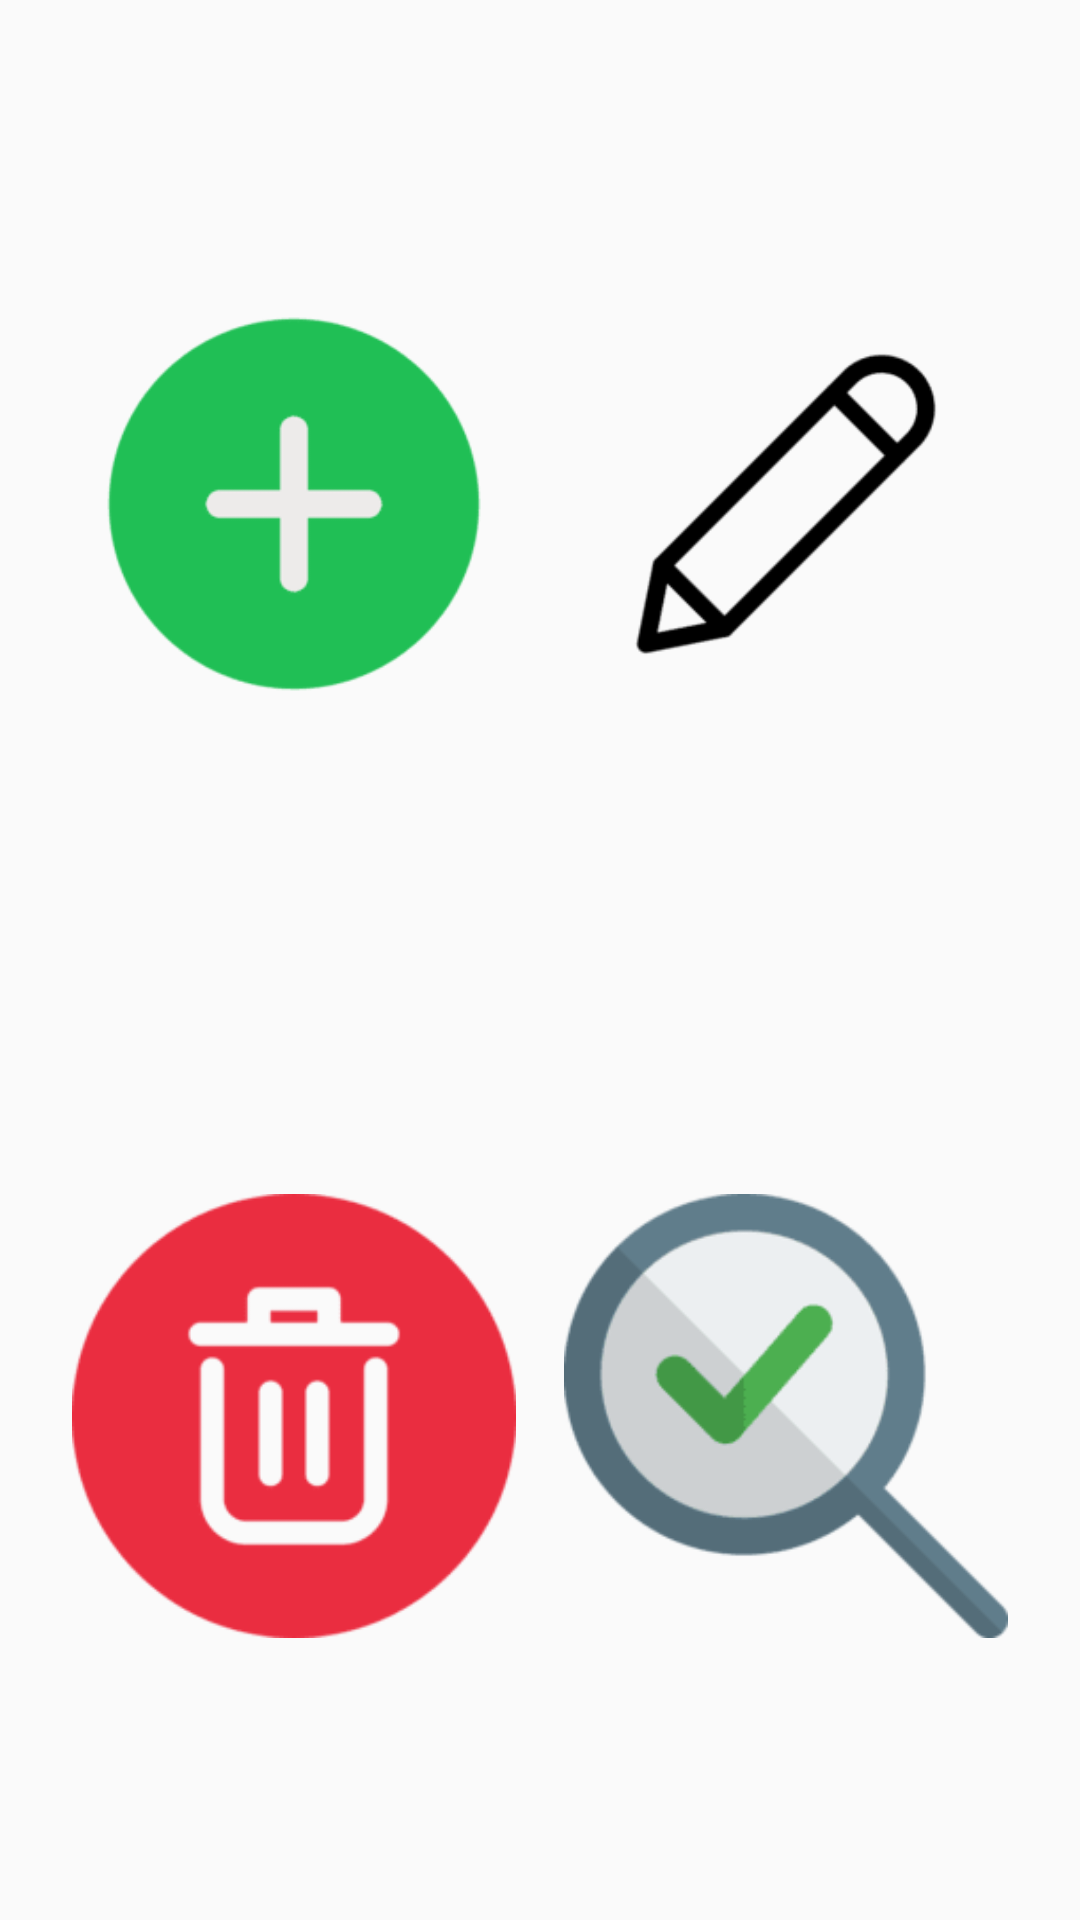

Screen size 1080x1920. Icon name, then its box in pixels as (x1, y1, x2, y2):
Editar Servicio: (636, 354, 936, 654)
